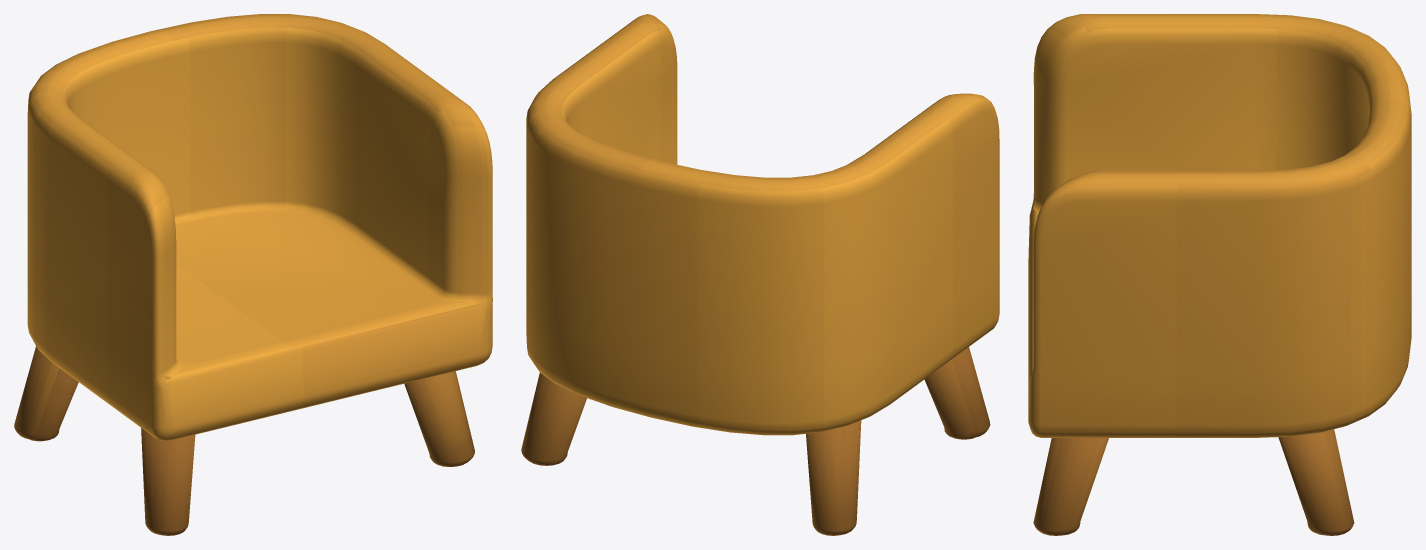
Rendered from LoungeChair_Orange.fbx.
The picture shows the model from 3 angles, left to right: view 1: azimuth 30°, elevation 25°; view 2: azimuth 150°, elevation 25°; view 3: azimuth 270°, elevation 25°; orthographic projection. The views are drawn at different scales.
Visible parts, largest first — view 1: loungeChair_.001; view 2: loungeChair_.001; view 3: loungeChair_.001.
Part boxes in pixels (x1,y1,x2,y2): loungeChair_.001: (14,14,492,535); loungeChair_.001: (521,14,999,535); loungeChair_.001: (1028,14,1411,535).
Bounding box in the file's own units: 83.22 × 81.02 × 77.12.
